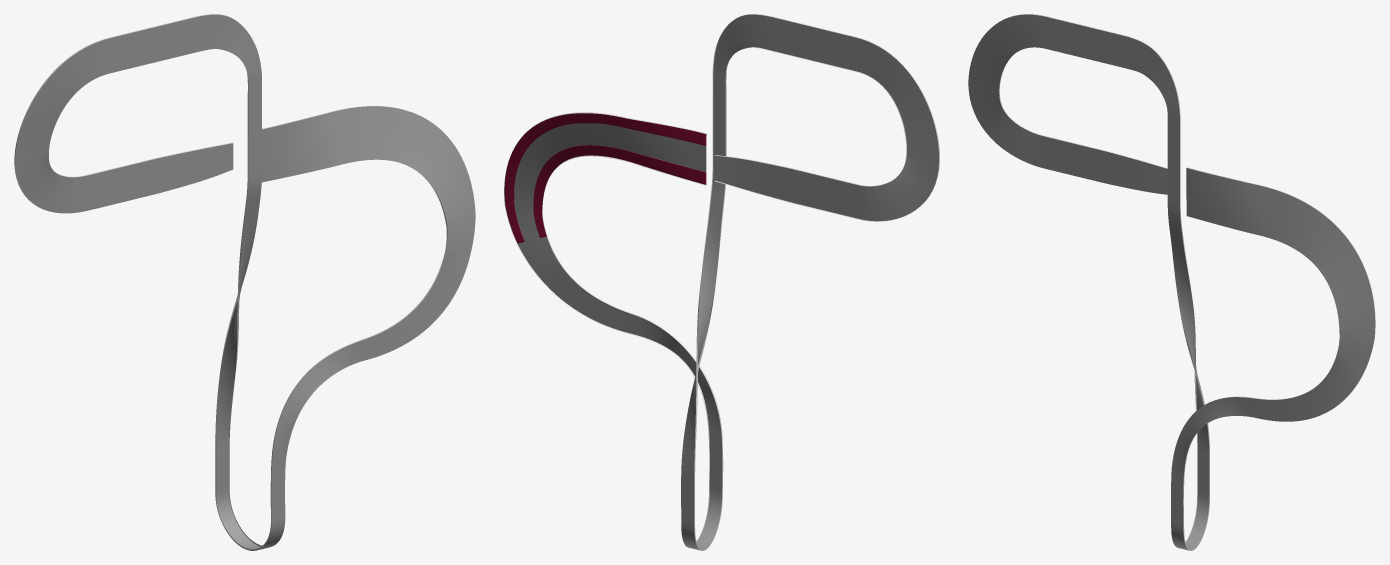
The model's file is track.obj.
The picture shows the model from 3 angles, left to right: view 1: azimuth 30°, elevation 25°; view 2: azimuth 150°, elevation 25°; view 3: azimuth 330°, elevation 25°; orthographic projection. The views are drawn at different scales.
Parts seen in each view (by area): view 1: MXTRoadSegment.009_PreviewMesh, MXTRoadSegment.006_PreviewMesh, MXTRoadSegment.023_PreviewMesh, MXTRoadSegment.003_PreviewMesh, MXTRoadSegment.025_PreviewMesh, MXTRoadSegment.015_PreviewMesh, MXTRoadSegment.012_PreviewMesh, MXTRoadSegment.020_PreviewMesh; view 2: MXTRoadSegment.009_PreviewMesh, MXTRoadSegment.006_PreviewMesh, MXTRoadSegment.023_PreviewMesh, MXTRoadSegment.003_PreviewMesh, MXTRoadSegment.025_PreviewMesh, MXTRoadSegment.015_PreviewMesh, MXTRoadSegment.012_PreviewMesh, MXTRoadSegment.020_PreviewMesh; view 3: MXTRoadSegment.009_PreviewMesh, MXTRoadSegment.006_PreviewMesh, MXTRoadSegment.023_PreviewMesh, MXTRoadSegment.003_PreviewMesh, MXTRoadSegment.025_PreviewMesh, MXTRoadSegment.015_PreviewMesh, MXTRoadSegment.012_PreviewMesh.
Boxes of the visible parts, x1=… form: MXTRoadSegment.009_PreviewMesh: x1=261, y1=106, x2=475, y2=479; MXTRoadSegment.006_PreviewMesh: x1=14, y1=37, x2=233, y2=213; MXTRoadSegment.023_PreviewMesh: x1=215, y1=99, x2=261, y2=452; MXTRoadSegment.003_PreviewMesh: x1=109, y1=17, x2=193, y2=73; MXTRoadSegment.025_PreviewMesh: x1=193, y1=14, x2=261, y2=101; MXTRoadSegment.015_PreviewMesh: x1=215, y1=489, x2=285, y2=550; MXTRoadSegment.012_PreviewMesh: x1=270, y1=476, x2=285, y2=520; MXTRoadSegment.020_PreviewMesh: x1=215, y1=449, x2=229, y2=493; MXTRoadSegment.009_PreviewMesh: x1=504, y1=112, x2=722, y2=449; MXTRoadSegment.006_PreviewMesh: x1=715, y1=37, x2=939, y2=221; MXTRoadSegment.023_PreviewMesh: x1=681, y1=92, x2=726, y2=484; MXTRoadSegment.003_PreviewMesh: x1=775, y1=17, x2=856, y2=71; MXTRoadSegment.025_PreviewMesh: x1=712, y1=14, x2=775, y2=95; MXTRoadSegment.015_PreviewMesh: x1=681, y1=487, x2=722, y2=550; MXTRoadSegment.012_PreviewMesh: x1=709, y1=447, x2=723, y2=490; MXTRoadSegment.020_PreviewMesh: x1=681, y1=481, x2=694, y2=523; MXTRoadSegment.009_PreviewMesh: x1=1171, y1=167, x2=1375, y2=487; MXTRoadSegment.006_PreviewMesh: x1=968, y1=14, x2=1167, y2=194; MXTRoadSegment.023_PreviewMesh: x1=1167, y1=135, x2=1209, y2=457; MXTRoadSegment.003_PreviewMesh: x1=1046, y1=16, x2=1122, y2=67; MXTRoadSegment.025_PreviewMesh: x1=1122, y1=35, x2=1180, y2=138; MXTRoadSegment.015_PreviewMesh: x1=1171, y1=491, x2=1209, y2=550; MXTRoadSegment.012_PreviewMesh: x1=1171, y1=485, x2=1183, y2=525.
Size of the model in its own units: 2148 by 2500 by 366.
